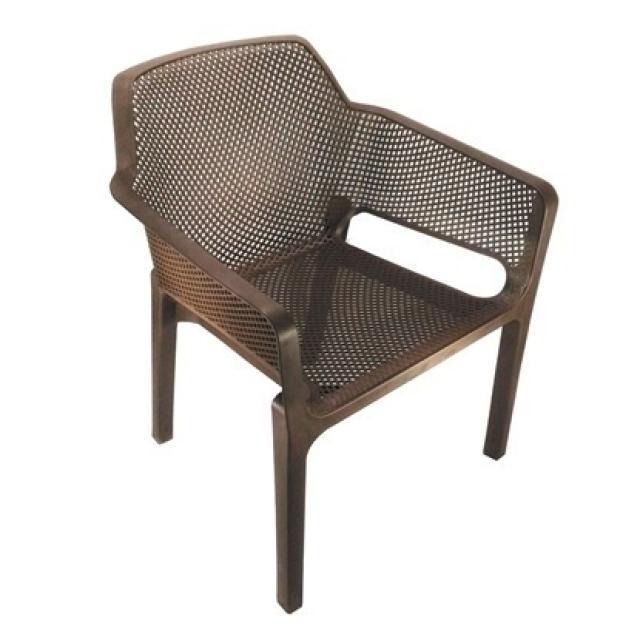chair: (108, 30, 566, 616)
